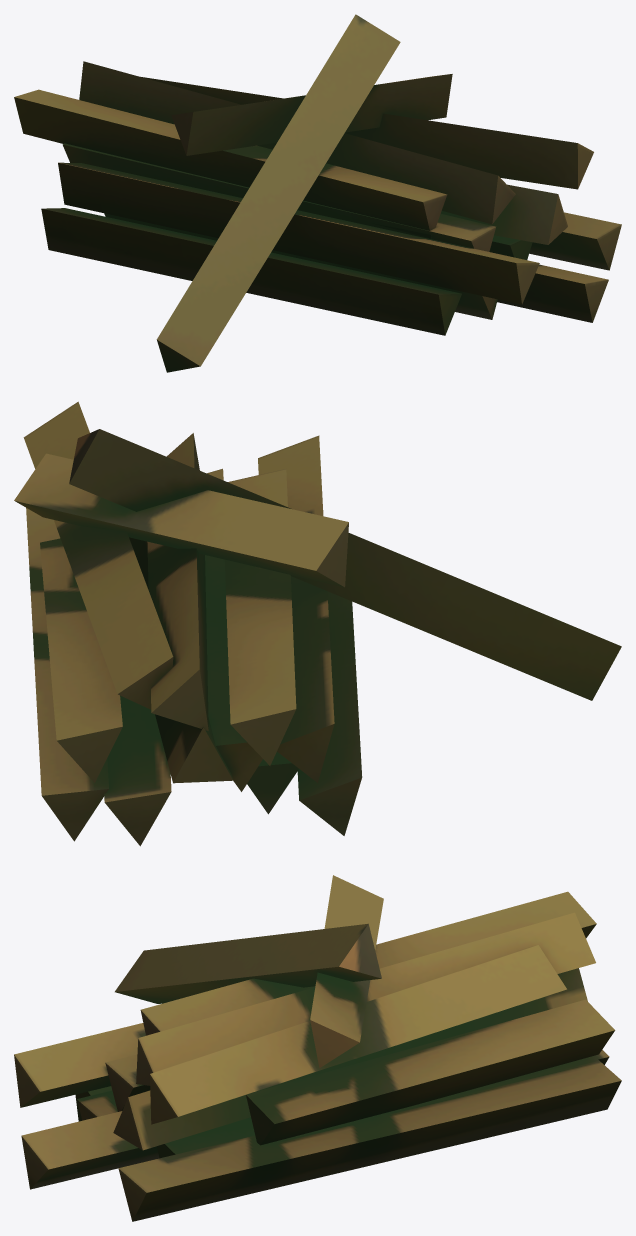
Rendered from Sce_worldmap_tree_b07.FBX.
3 renders of one model, top to bottom at view 1: azimuth 30°, elevation 25°; view 2: azimuth 150°, elevation 25°; view 3: azimuth 270°, elevation 25°, orthographic. The views are drawn at different scales.
Parts seen in each view (by area): view 1: Sce_worldmap_tree_b07; view 2: Sce_worldmap_tree_b07; view 3: Sce_worldmap_tree_b07.
Boxes of the visible parts, x1=… form: Sce_worldmap_tree_b07: x1=14, y1=14, x2=621, y2=372; Sce_worldmap_tree_b07: x1=14, y1=401, x2=621, y2=846; Sce_worldmap_tree_b07: x1=14, y1=875, x2=621, y2=1221.
Bounding box in the file's own units: 110 × 49.63 × 117.
